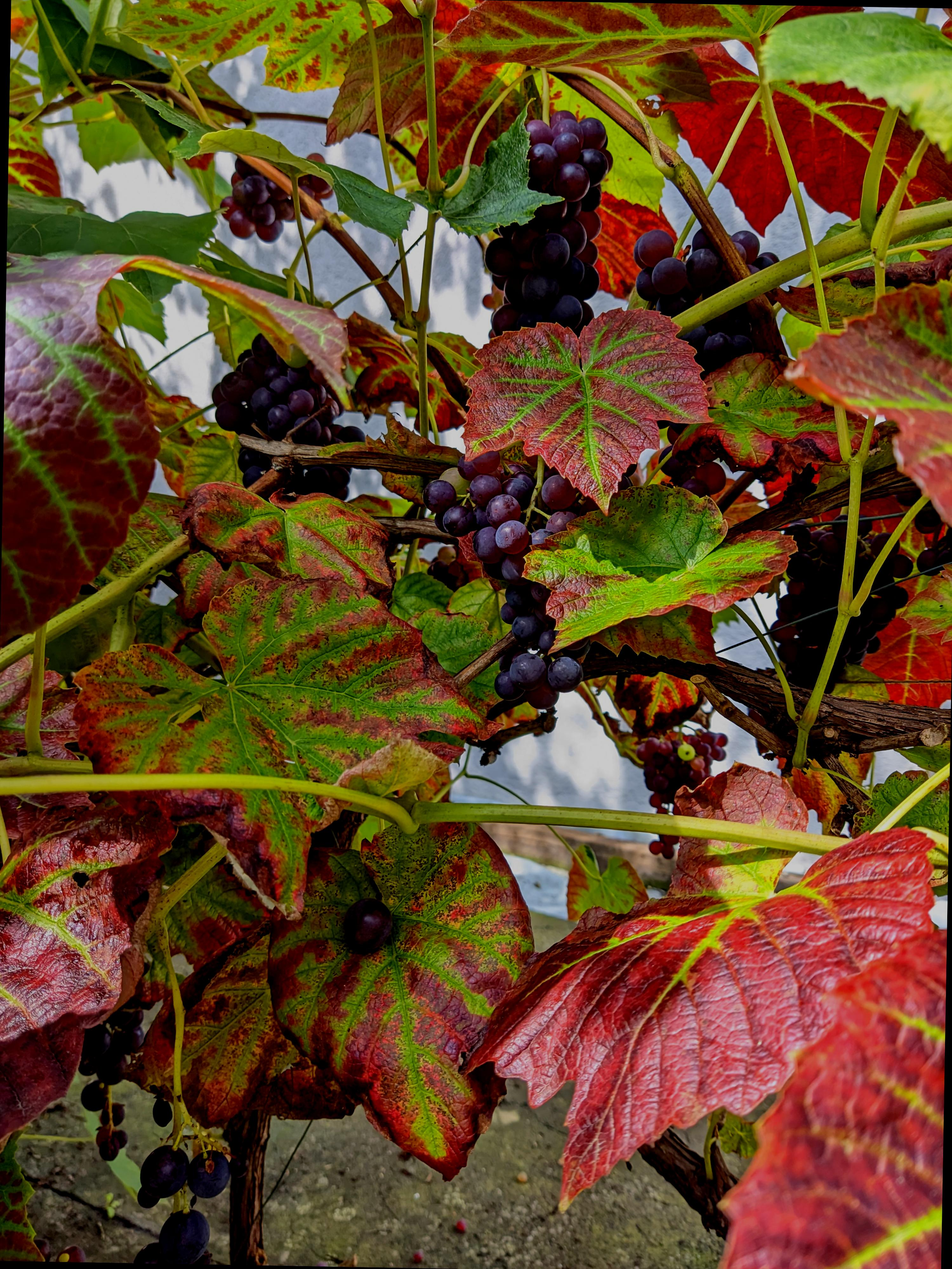Grape Ripe: (429, 441, 606, 702), (491, 85, 631, 337), (220, 324, 377, 499), (778, 507, 923, 688), (643, 207, 794, 366), (637, 720, 738, 851), (82, 1001, 159, 1157), (143, 1138, 240, 1257), (231, 142, 346, 236), (628, 413, 738, 490), (906, 474, 952, 571), (438, 539, 473, 583)
